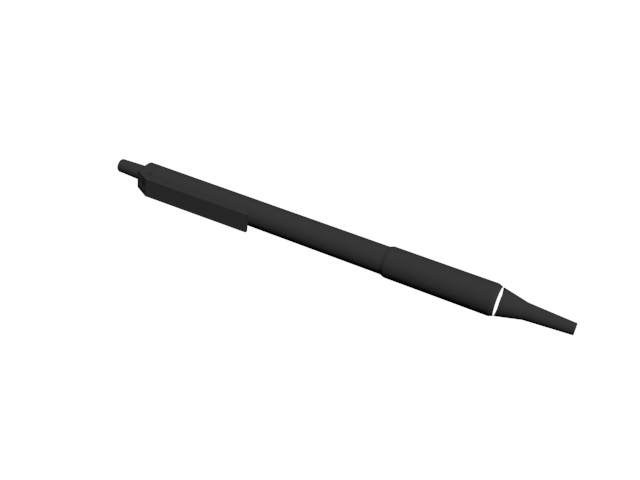pen: (113, 153, 584, 336)
